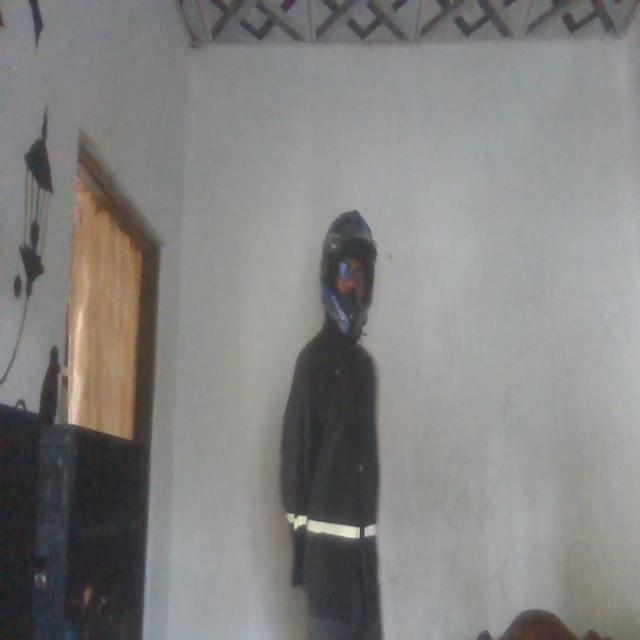Helmet_Wearer: (308, 201, 376, 339)
Jacket_Wearer: (273, 313, 392, 634)
Person: (272, 195, 404, 640)
